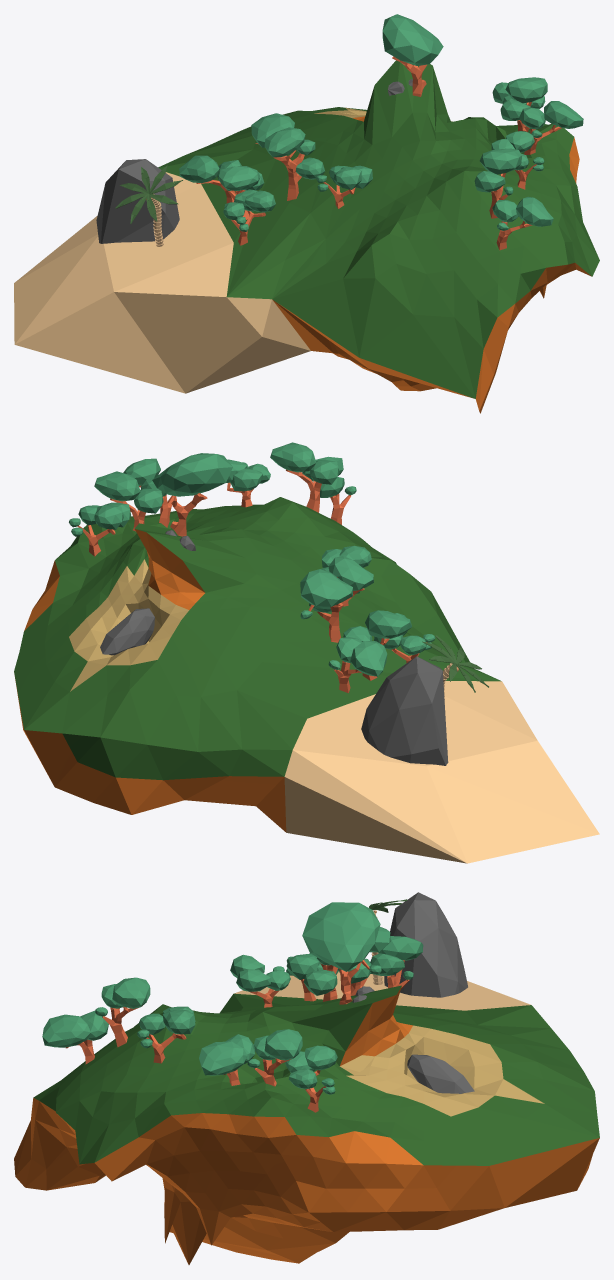
The model's file is Isla4.fbx.
The picture shows the model from 3 angles, top to bottom: view 1: azimuth 30°, elevation 25°; view 2: azimuth 150°, elevation 25°; view 3: azimuth 270°, elevation 25°; orthographic projection. The views are drawn at different scales.
Parts seen in each view (by area): view 1: Tierra.002; view 2: Tierra.002; view 3: Tierra.002.
Part boxes in pixels (x1=…): Tierra.002: x1=14, y1=14, x2=599, y2=413; Tierra.002: x1=14, y1=442, x2=599, y2=863; Tierra.002: x1=14, y1=892, x2=599, y2=1264.
Size of the model in its own units: 30.76 by 18.54 by 26.52.
